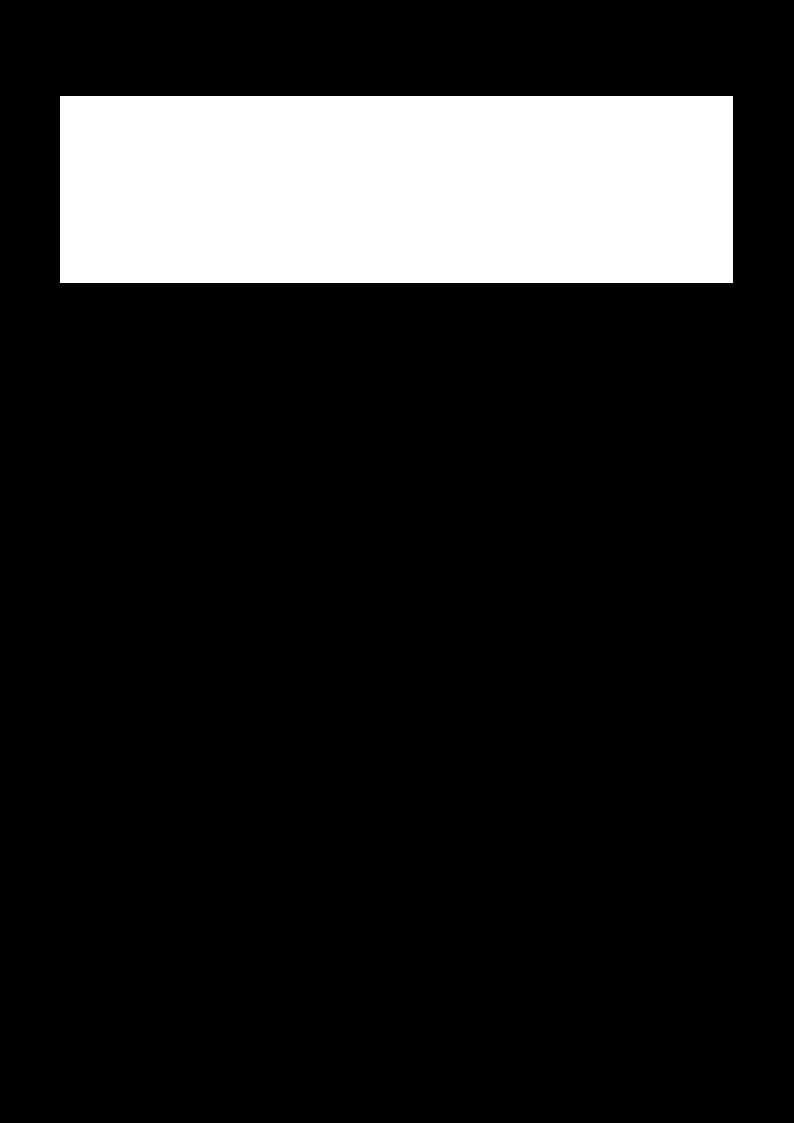table: (60, 96, 732, 282)
